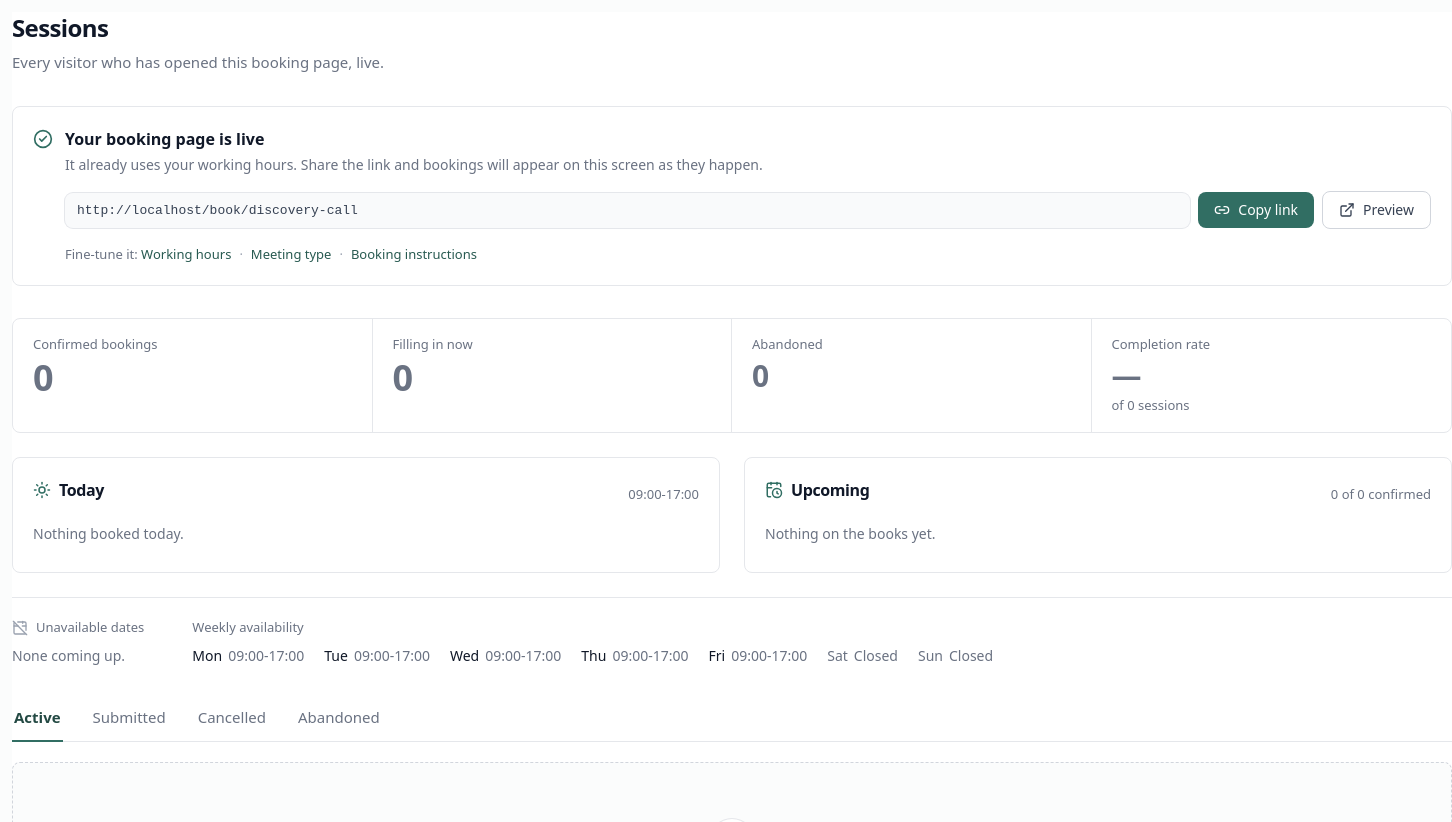
Test: OrganizerDashboardPage › straight after the page was created › copies the link to the clipboard and confirms it
Click the button "Copy link" at (1256, 210), box [1198,192,1314,228]
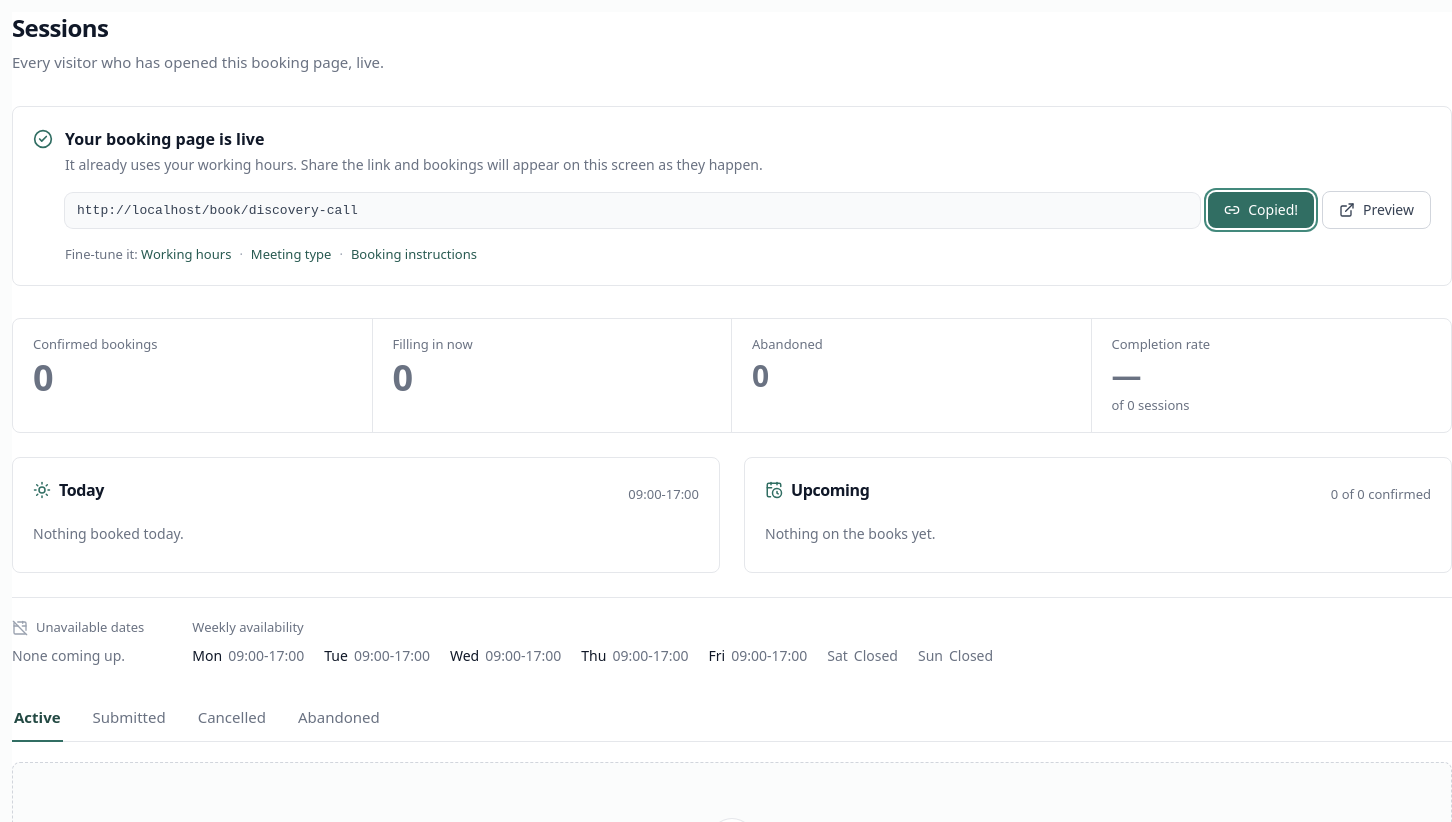
Expected: the button "Copied!" is shown, [1208,192,1314,228]
